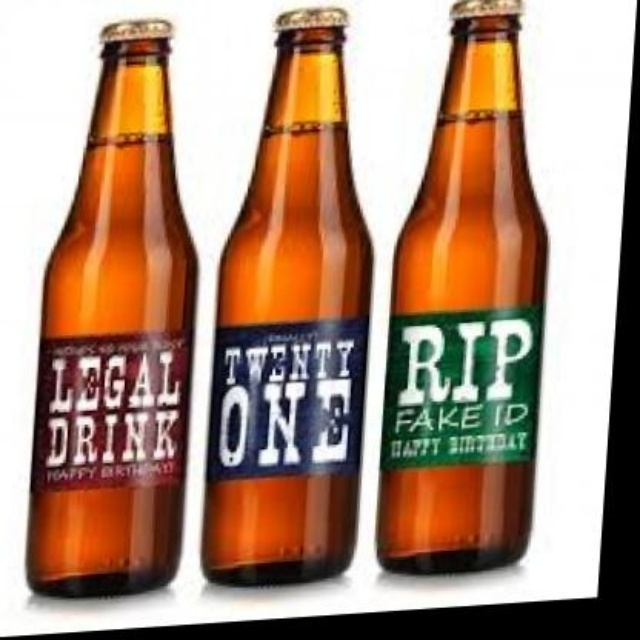trash: (26, 18, 195, 594), (203, 8, 371, 583), (377, 0, 546, 571)
